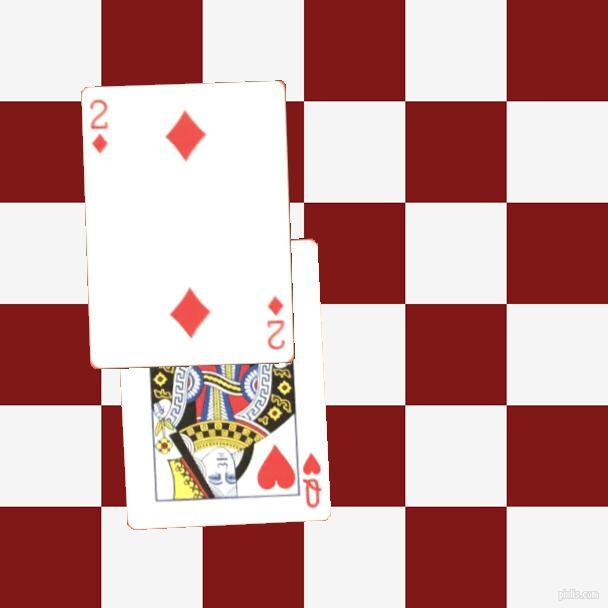d02: (86, 96, 111, 156), (264, 293, 288, 353)
h12: (298, 448, 324, 510)
